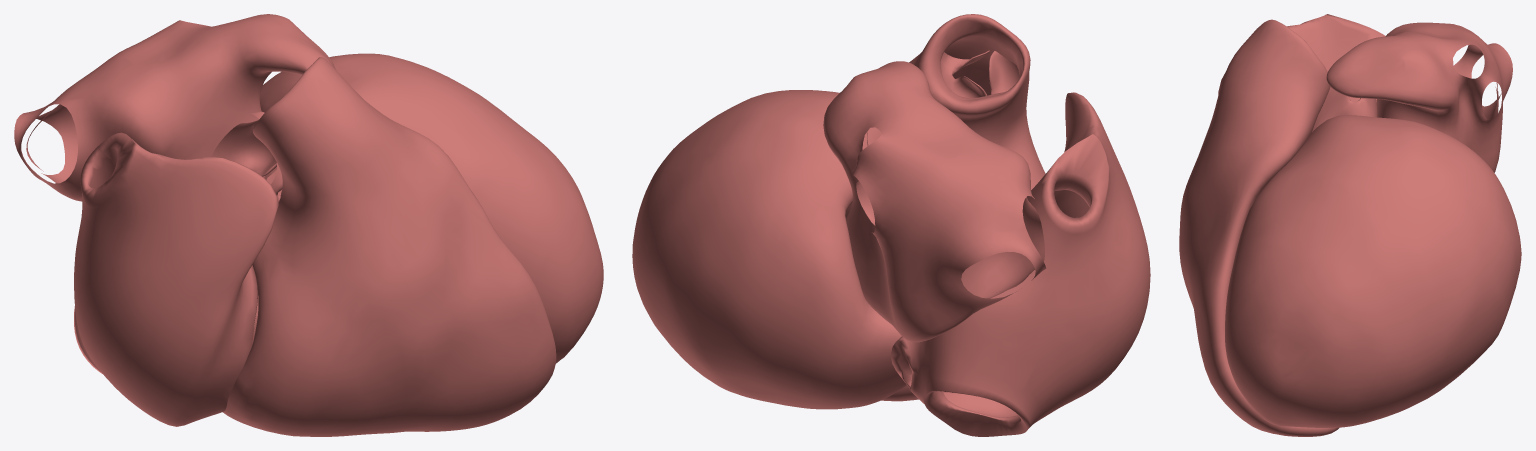
The model's file is female-cardiovascular.glb.
The picture shows the model from 3 angles, left to right: view 1: azimuth 30°, elevation 25°; view 2: azimuth 150°, elevation 25°; view 3: azimuth 270°, elevation 25°; orthographic projection. The views are drawn at different scales.
Visible parts, largest first — view 1: VH_F_right_ventricle, VH_F_right_cardiac_atrium, VH_F_left_ventricle, VH_F_left_cardiac_atrium, VH_F_aortic_valve; view 2: VH_F_left_ventricle, VH_F_right_cardiac_atrium, VH_F_left_cardiac_atrium, VH_F_right_ventricle, VH_F_pulmonary_valve; view 3: VH_F_left_ventricle, VH_F_right_ventricle, VH_F_left_cardiac_atrium, VH_F_right_cardiac_atrium, VH_F_aortic_valve.
Boxes of the visible parts, x1,y1,x2,y2 form: VH_F_right_ventricle: [222, 57, 556, 436]; VH_F_right_cardiac_atrium: [74, 132, 278, 426]; VH_F_left_ventricle: [259, 53, 603, 363]; VH_F_left_cardiac_atrium: [14, 14, 335, 201]; VH_F_aortic_valve: [211, 111, 282, 202]; VH_F_left_ventricle: [632, 90, 906, 409]; VH_F_right_cardiac_atrium: [890, 92, 1150, 436]; VH_F_left_cardiac_atrium: [823, 61, 1046, 342]; VH_F_right_ventricle: [881, 14, 1045, 401]; VH_F_pulmonary_valve: [940, 50, 1019, 97]; VH_F_left_ventricle: [1225, 115, 1521, 427]; VH_F_right_ventricle: [1179, 19, 1339, 436]; VH_F_left_cardiac_atrium: [1326, 22, 1512, 172]; VH_F_right_cardiac_atrium: [1218, 14, 1385, 101]; VH_F_aortic_valve: [1312, 87, 1377, 132].
Bounding box in the file's own units: 0.1425 × 0.11 × 0.1015.
